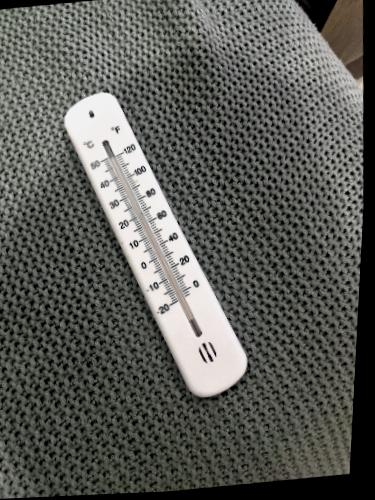thermo: (55, 85, 253, 399)
